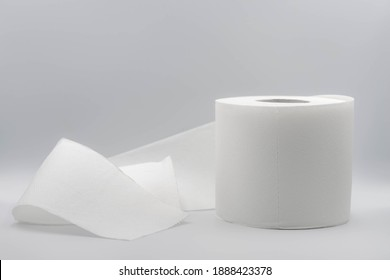Tissue: (11, 91, 356, 242)
